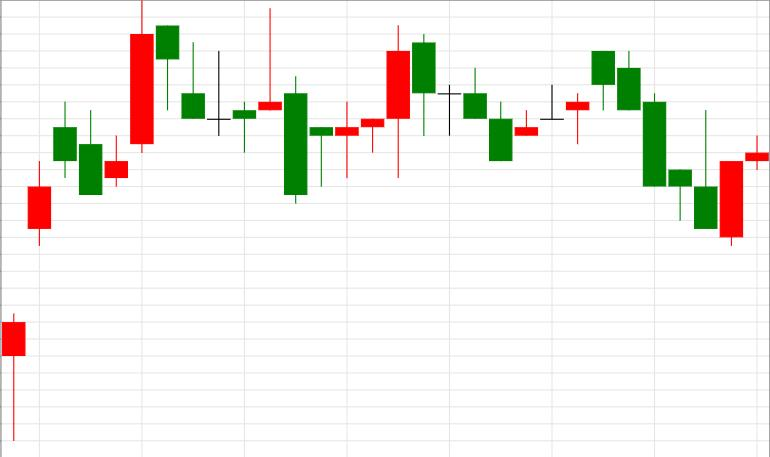hanging_man_fall: (2, 2, 179, 440)
inverse_hammer_rise: (591, 51, 717, 228)
